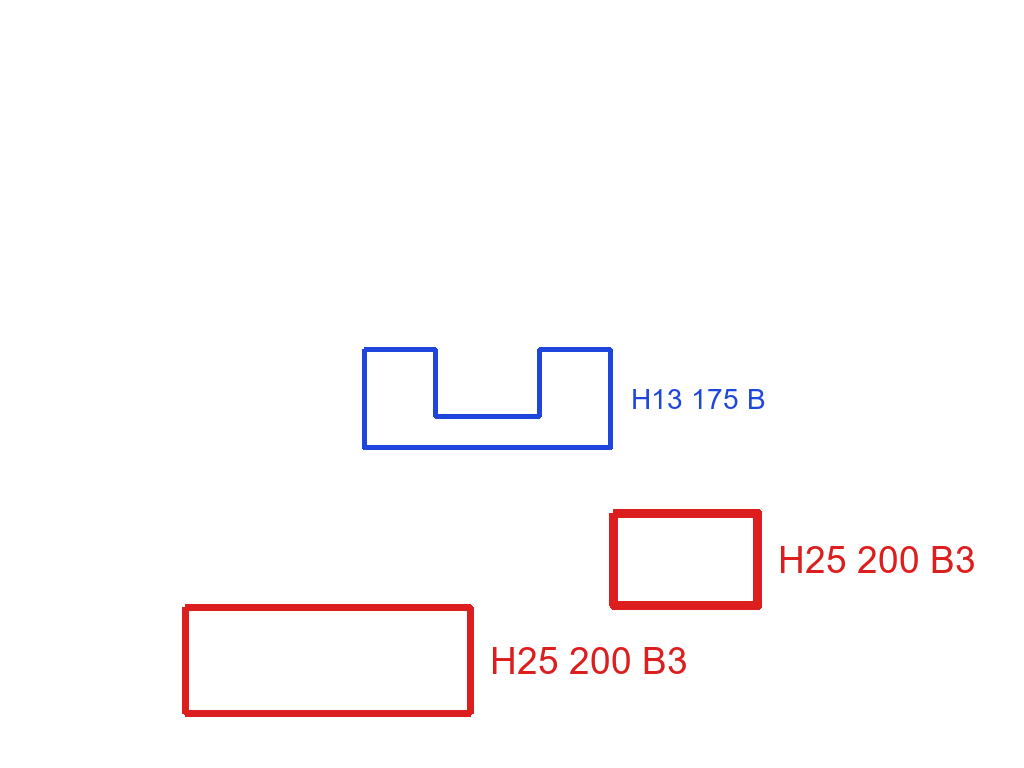shape: (180, 602, 476, 719), (360, 345, 615, 452), (607, 507, 764, 612)
text: (776, 544, 978, 575), (488, 645, 690, 676), (629, 387, 768, 411)
